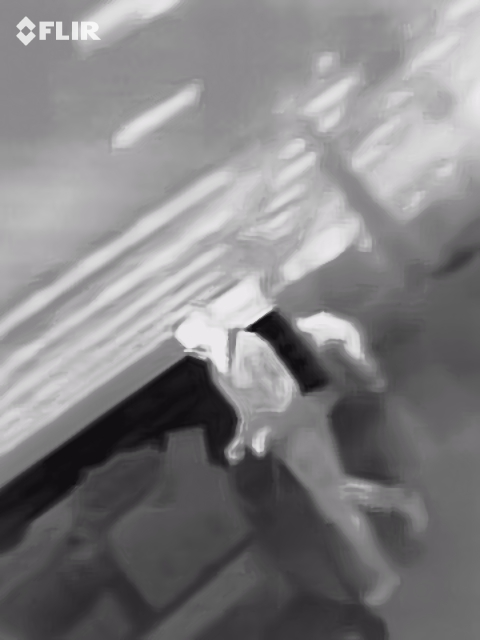head: (175, 304, 217, 359)
